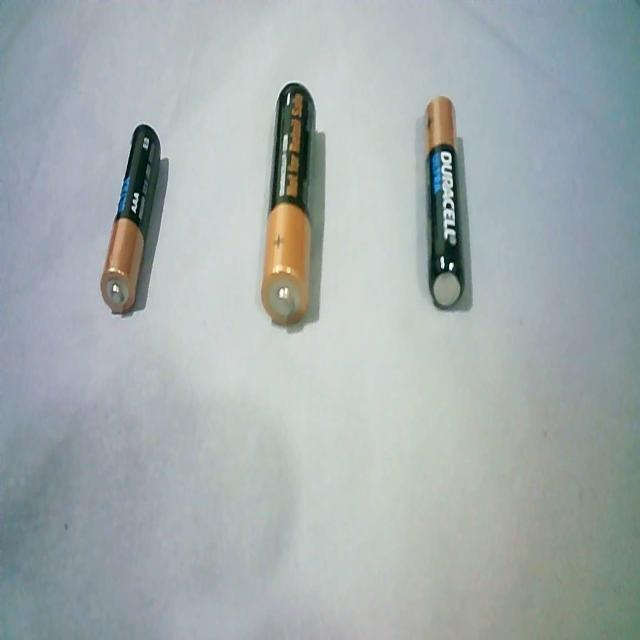AA: (257, 72, 324, 334)
AAA: (95, 110, 166, 325), (418, 86, 472, 317)
